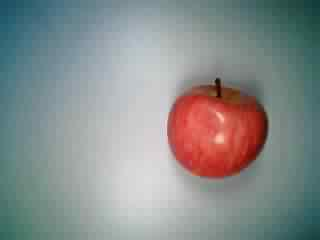apple: (166, 78, 270, 179)
